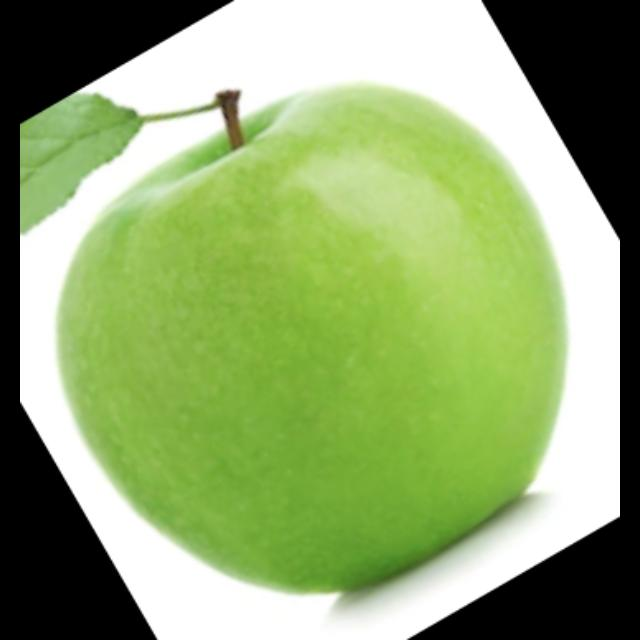Apel Segar: (44, 69, 578, 606)
